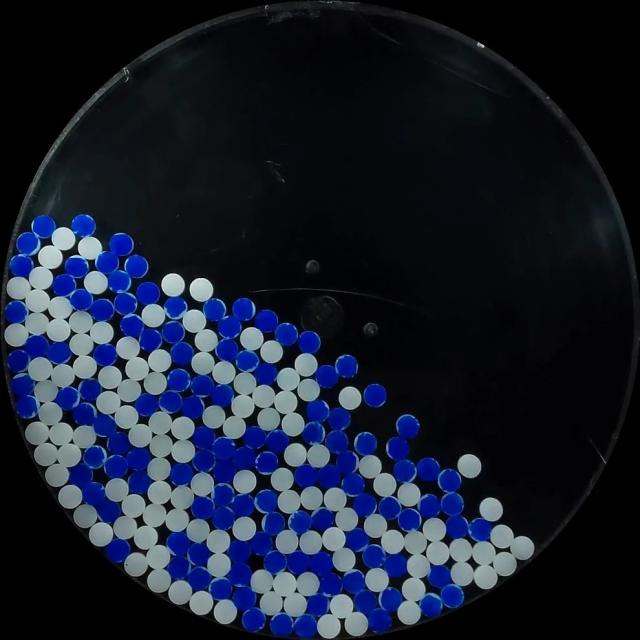pmmma-blanca: (188, 590, 214, 616), (26, 287, 52, 313), (88, 521, 114, 547), (24, 420, 50, 446), (6, 275, 32, 301), (56, 443, 83, 468), (28, 266, 54, 291), (145, 544, 170, 570), (272, 571, 298, 596), (146, 568, 172, 593), (381, 528, 406, 554), (212, 599, 238, 624), (472, 564, 498, 589), (456, 453, 482, 478), (117, 378, 143, 403), (70, 311, 96, 336), (47, 422, 74, 446), (24, 312, 51, 336), (71, 424, 99, 447), (206, 551, 231, 576), (28, 356, 53, 381), (72, 354, 97, 379), (357, 453, 382, 478), (205, 529, 230, 554), (489, 524, 514, 549), (343, 611, 368, 636), (509, 535, 534, 560), (147, 456, 172, 481), (405, 553, 430, 578), (37, 401, 63, 425), (46, 297, 72, 321), (147, 480, 173, 504), (148, 411, 174, 435), (38, 244, 64, 268), (448, 537, 472, 563), (132, 525, 158, 549), (332, 546, 356, 572), (396, 600, 422, 624), (44, 463, 70, 487), (77, 236, 103, 260), (123, 552, 149, 576), (450, 560, 474, 586), (119, 493, 145, 517), (113, 516, 139, 540), (72, 502, 98, 526), (36, 442, 60, 468), (283, 443, 309, 467), (425, 541, 451, 565), (4, 323, 29, 347), (182, 309, 207, 333), (170, 416, 195, 440), (128, 423, 152, 448), (231, 516, 256, 540), (190, 351, 215, 375), (422, 517, 446, 542), (259, 591, 284, 615), (231, 392, 255, 417), (321, 526, 345, 551), (57, 484, 82, 508), (189, 278, 214, 302), (168, 580, 193, 604), (141, 304, 166, 328), (492, 551, 516, 576), (105, 479, 129, 504), (142, 502, 167, 526), (52, 363, 76, 388), (212, 360, 237, 384), (251, 569, 275, 594), (276, 366, 300, 391), (364, 514, 389, 538), (301, 486, 327, 509), (98, 365, 122, 389), (148, 349, 172, 373), (125, 356, 149, 380), (190, 472, 214, 496), (222, 415, 246, 439), (397, 482, 421, 506), (401, 576, 425, 600), (270, 467, 294, 491), (295, 572, 319, 596), (252, 384, 276, 408), (84, 270, 108, 294), (232, 469, 256, 493), (194, 328, 218, 352), (364, 567, 388, 591), (239, 326, 263, 350), (478, 497, 502, 521), (52, 227, 76, 251), (471, 541, 495, 565), (373, 472, 397, 496), (116, 336, 140, 360), (234, 371, 258, 395), (275, 530, 299, 554), (46, 318, 71, 341), (89, 321, 114, 344), (170, 439, 195, 462), (143, 372, 168, 395), (165, 508, 190, 531), (69, 334, 95, 356), (329, 594, 353, 617), (323, 487, 347, 510), (281, 412, 305, 435), (283, 592, 307, 615), (306, 444, 330, 467), (161, 273, 185, 296), (317, 614, 340, 638), (300, 530, 323, 554), (257, 407, 281, 430), (296, 379, 320, 402), (404, 530, 427, 554), (184, 519, 209, 541), (260, 340, 283, 363), (294, 353, 317, 376), (34, 380, 58, 402), (98, 391, 120, 415), (114, 405, 138, 427), (202, 406, 226, 428), (338, 386, 361, 408), (172, 486, 195, 508), (278, 491, 301, 513), (275, 391, 297, 414), (149, 436, 173, 457), (337, 506, 358, 530)
